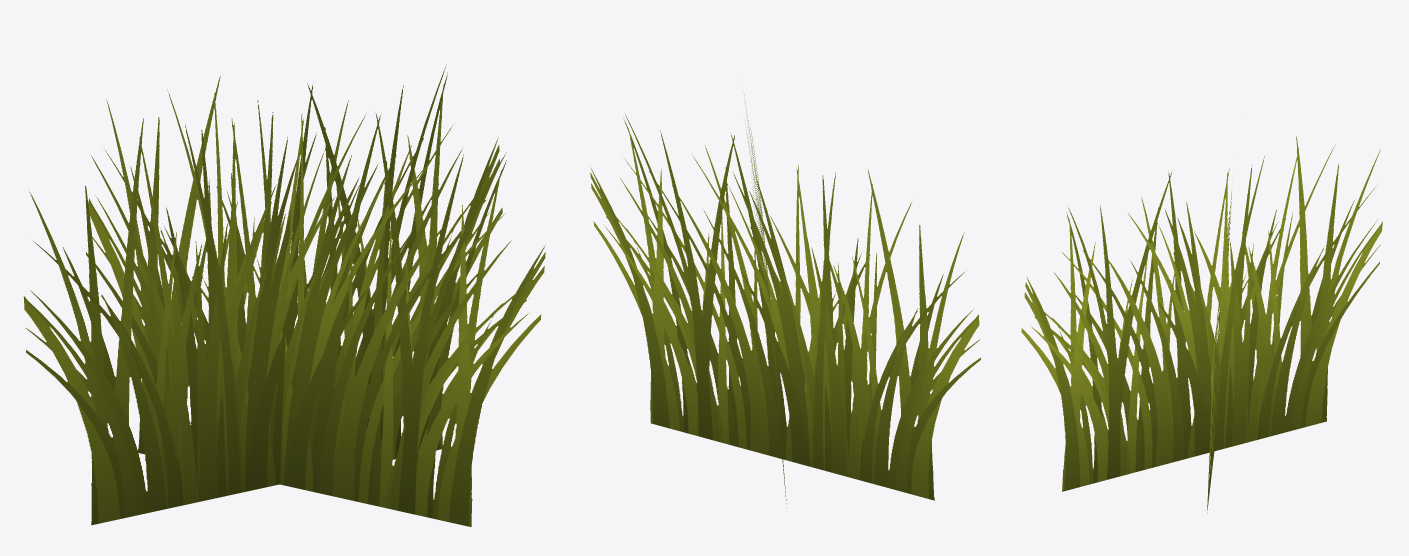
The model's file is grass_1_burnt1.glb.
The picture shows the model from 3 angles, left to right: view 1: azimuth 30°, elevation 25°; view 2: azimuth 150°, elevation 25°; view 3: azimuth 270°, elevation 25°; orthographic projection. The views are drawn at different scales.
Parts seen in each view (by area): view 1: grass_1_burnt1; view 2: grass_1_burnt1; view 3: grass_1_burnt1.
Boxes of the visible parts, <box> form: grass_1_burnt1: <box>23,64,545,526</box>; grass_1_burnt1: <box>590,94,980,507</box>; grass_1_burnt1: <box>1021,136,1382,513</box>.
Bounding box in the file's own units: 0.5259 × 0.4413 × 0.4484.
1 material, 1 textured.
